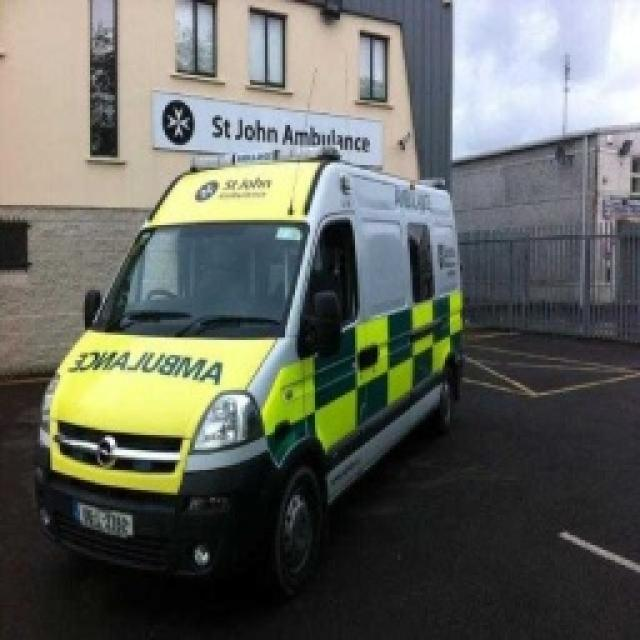emergency-vehicle: (38, 156, 465, 608)
